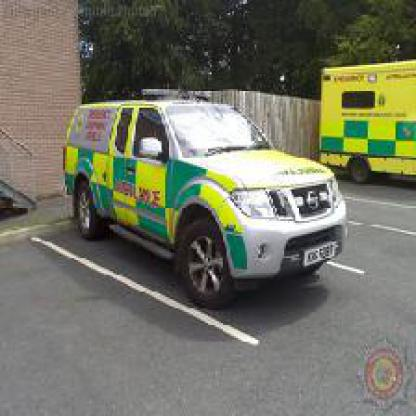emergency: (35, 80, 351, 329)
